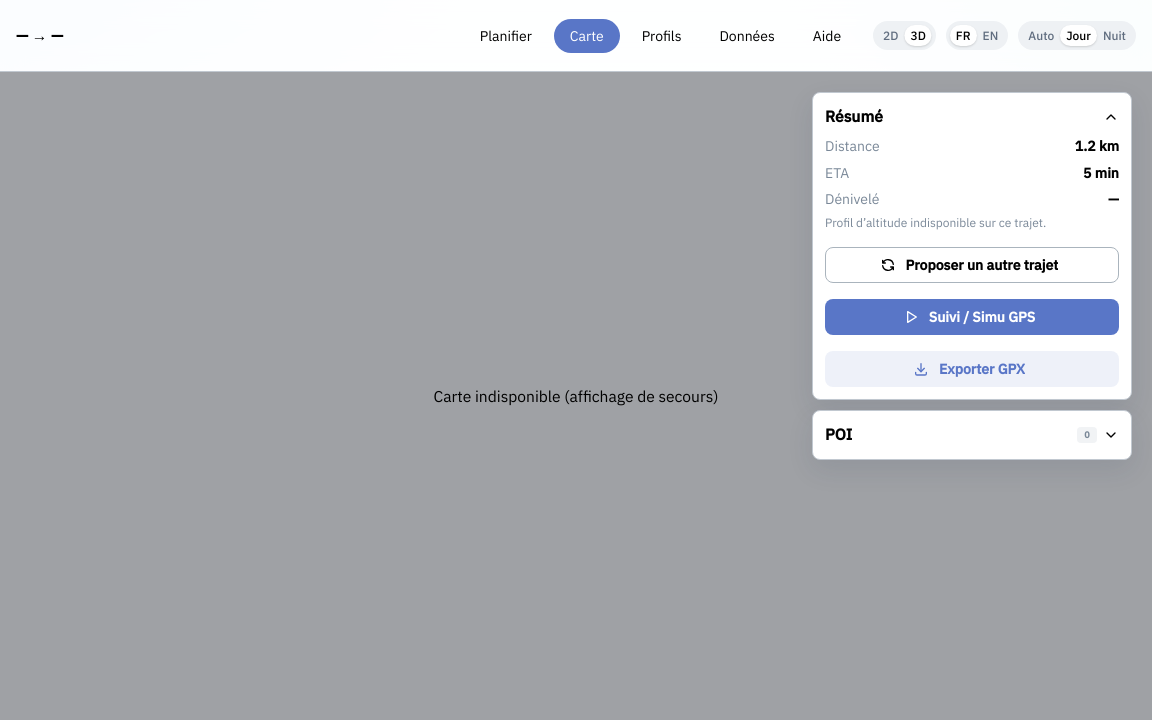
Scenario: App routing › n envoie pas de requete POI supplementaire quand aucune categorie visible n est selectionnee hors navigation
Step 1. Click the button with aria-label "Afficher le panneau" → coordinates (839, 434), box top-left (825, 424), bottom-right (1119, 447)
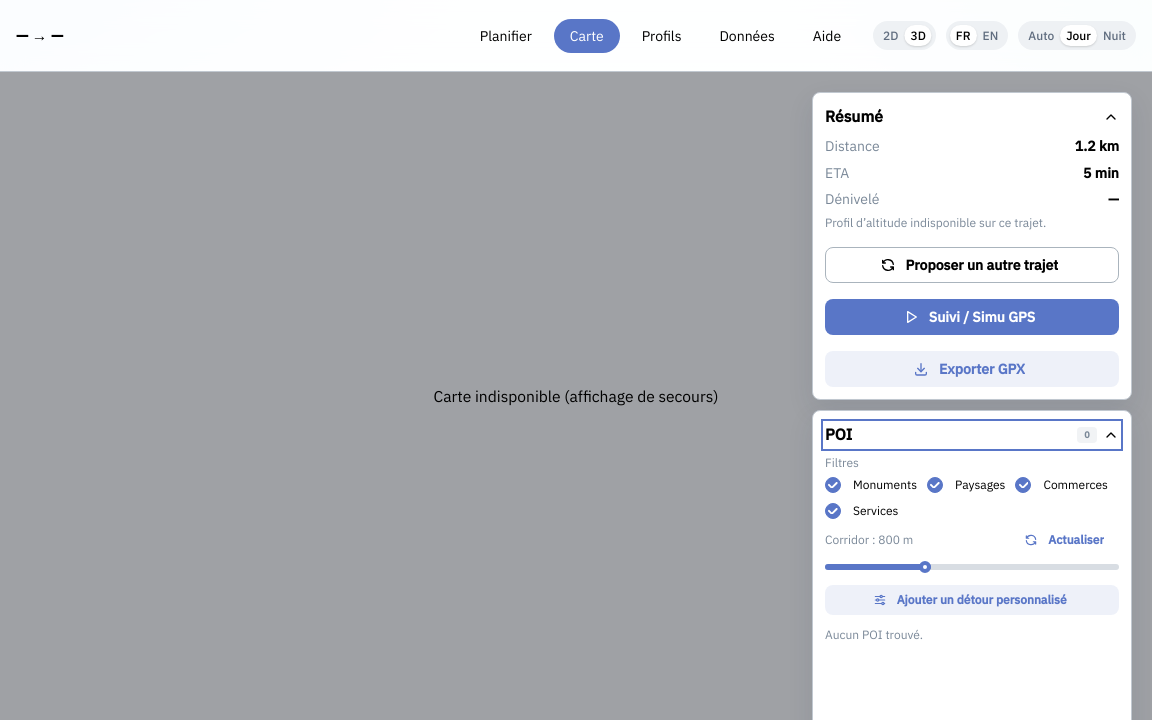
Step 2. Click the checkbox labelled "Monuments" → coordinates (833, 485), box top-left (825, 477), bottom-right (841, 493)
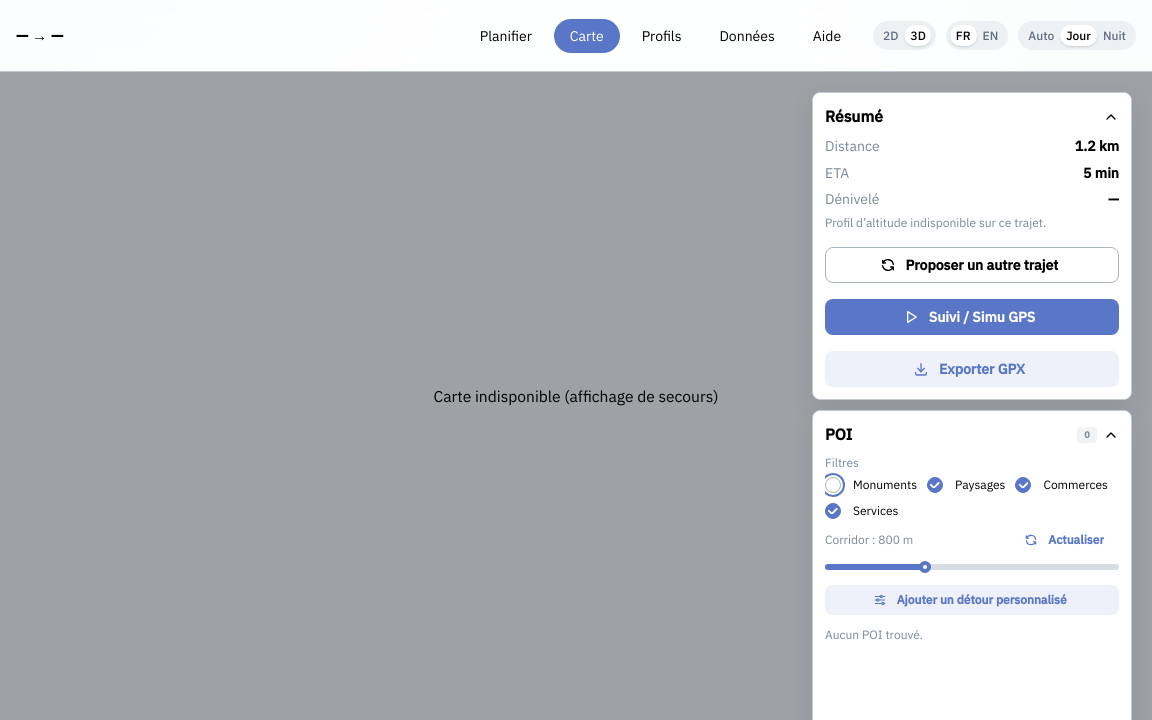
Step 3. Click the checkbox labelled "Commerces" → coordinates (1023, 485), box top-left (1015, 477), bottom-right (1031, 493)
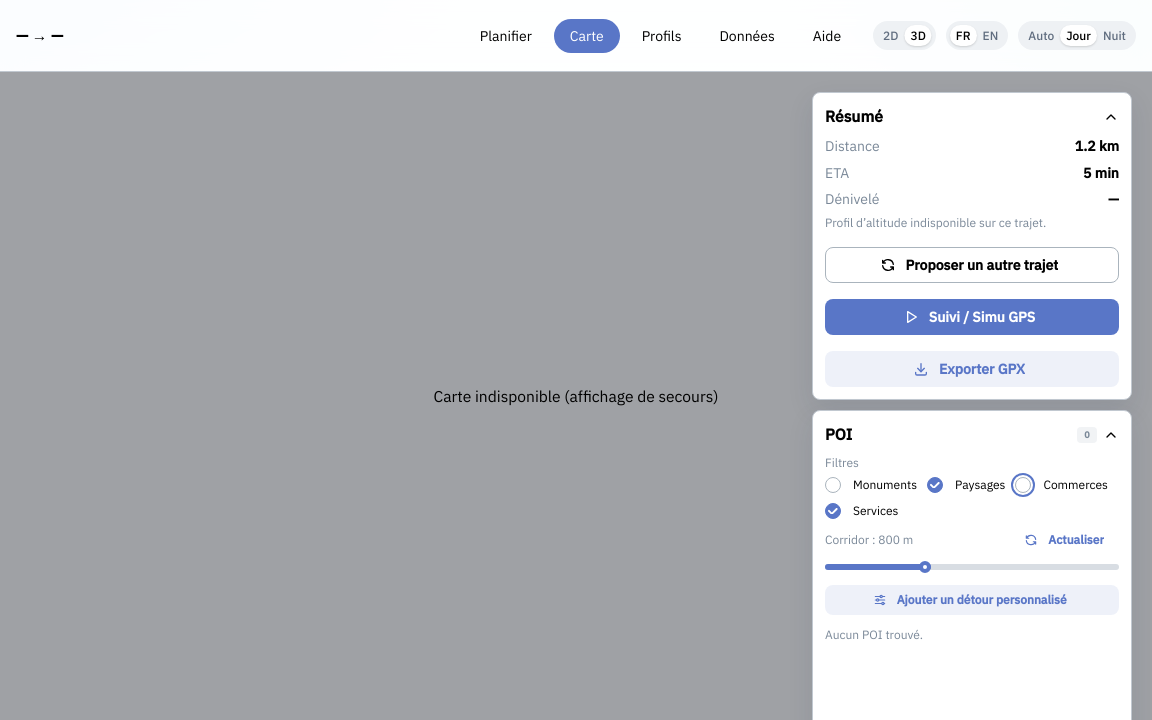
Step 4. Click the checkbox labelled "Services" → coordinates (833, 511), box top-left (825, 503), bottom-right (841, 519)
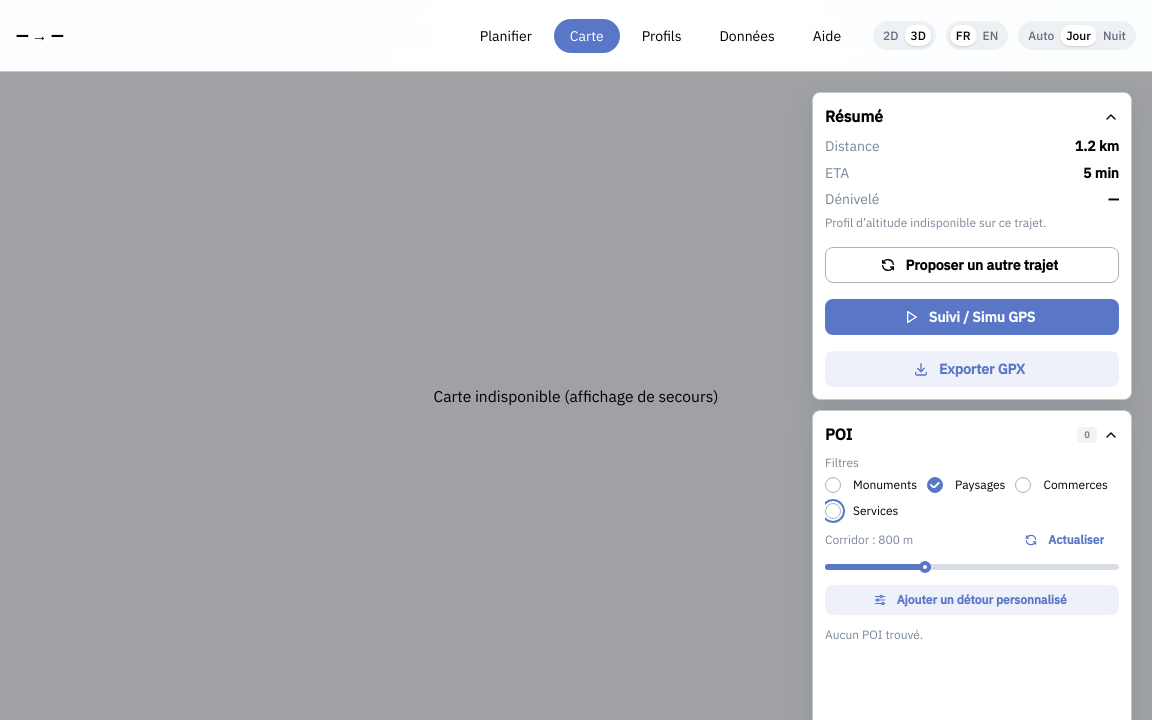
Step 5. Click the checkbox labelled "Paysages" → coordinates (935, 485), box top-left (927, 477), bottom-right (943, 493)
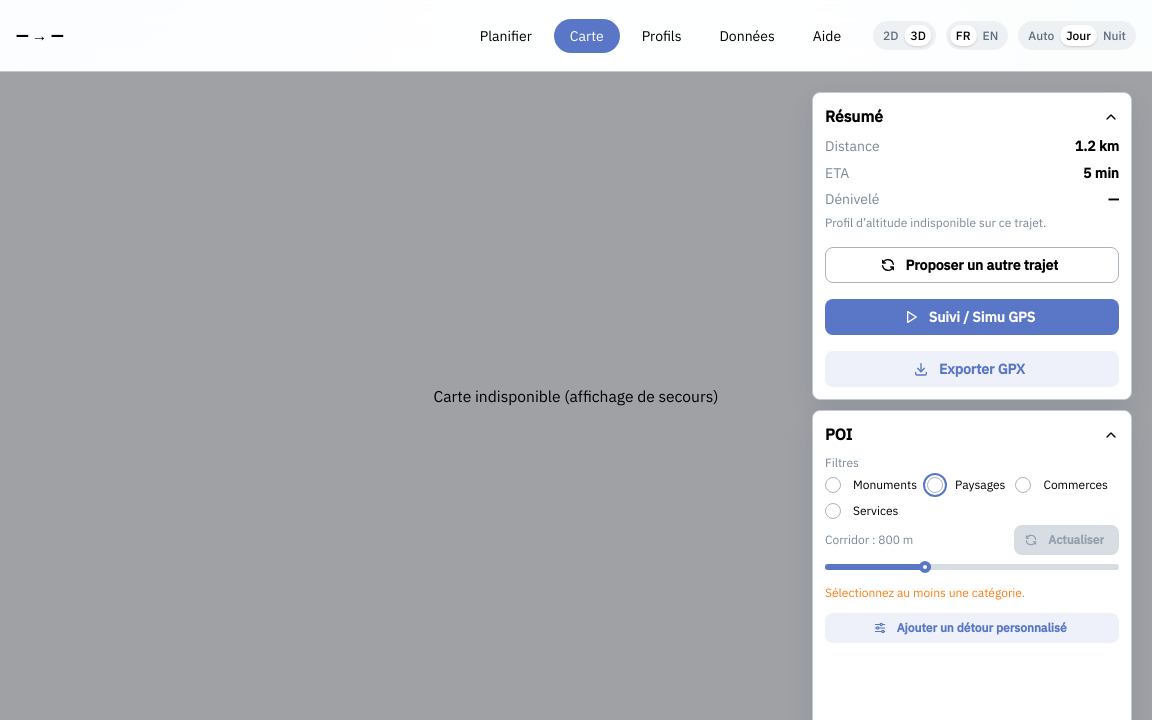
Expected: the text "Sélectionnez au moins une catégorie." is shown, top-left (825, 585), bottom-right (1025, 600)
